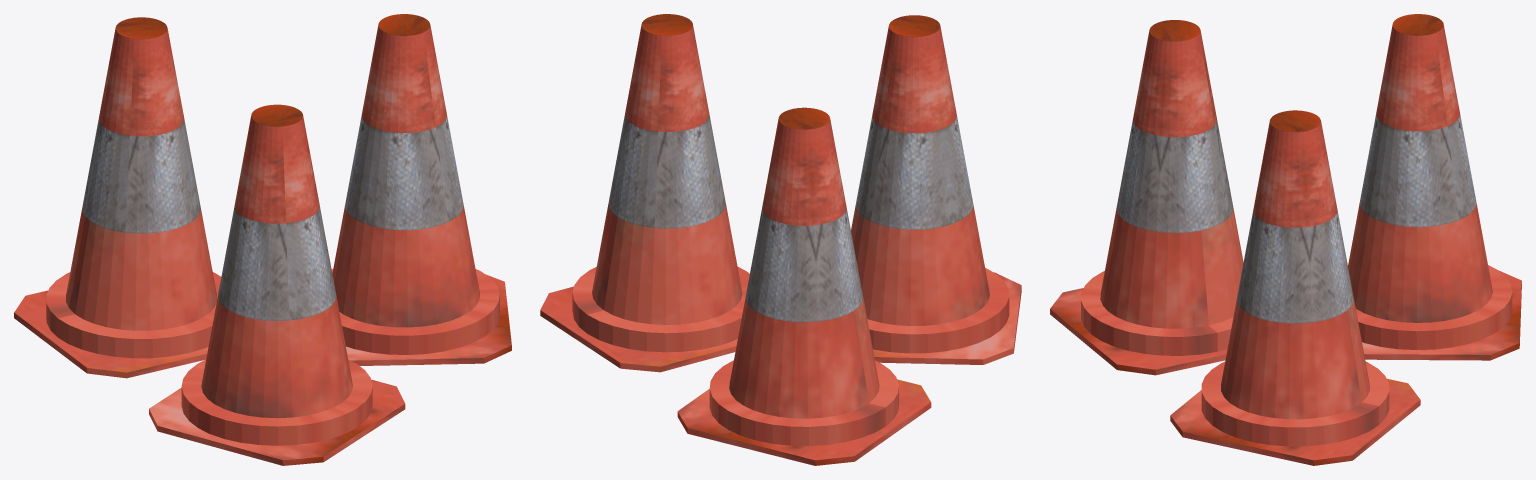
Rendered from psx_style_traffic_cone.glb.
3 views of the same model, side by side, from view 1: azimuth 30°, elevation 25°; view 2: azimuth 150°, elevation 25°; view 3: azimuth 270°, elevation 25° (orthographic).
Visible parts, largest first — view 1: Cylinder.002, Cylinder, Cylinder.001; view 2: Cylinder, Cylinder.001, Cylinder.002; view 3: Cylinder.001, Cylinder.002, Cylinder.
Boxes of the visible parts, x1=… form: Cylinder.002: x1=149, y1=104, x2=405, y2=465; Cylinder: x1=14, y1=17, x2=221, y2=378; Cylinder.001: x1=331, y1=14, x2=511, y2=365; Cylinder: x1=677, y1=107, x2=931, y2=465; Cylinder.001: x1=540, y1=14, x2=749, y2=372; Cylinder.002: x1=851, y1=15, x2=1021, y2=364; Cylinder.001: x1=1170, y1=110, x2=1420, y2=465; Cylinder.002: x1=1050, y1=20, x2=1243, y2=375; Cylinder: x1=1348, y1=14, x2=1521, y2=360.
Size of the model in its own units: 3.16 by 2.19 by 3.21.
3 materials, 3 textured.
